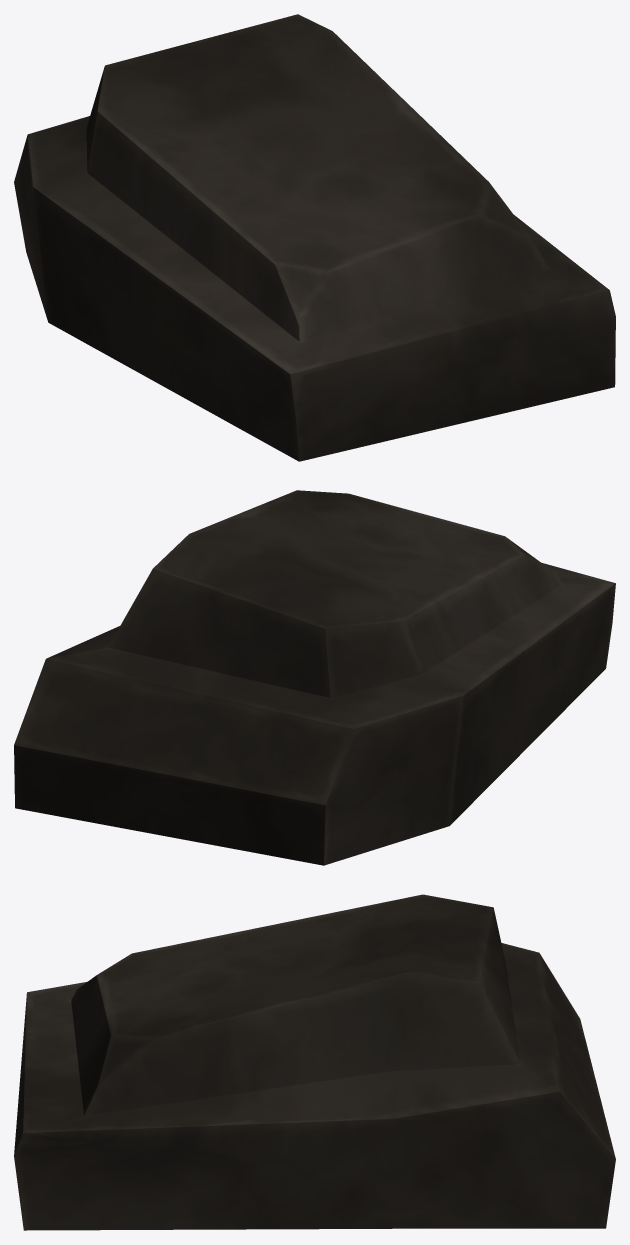
File: Stone3.FBX
3 renders of one model, top to bottom at view 1: azimuth 30°, elevation 25°; view 2: azimuth 150°, elevation 25°; view 3: azimuth 270°, elevation 25°, orthographic. The views are drawn at different scales.
Parts seen in each view (by area): view 1: Stone3; view 2: Stone3; view 3: Stone3.
Boxes of the visible parts, x1,y1,x2,y2 form: Stone3: (14, 14, 615, 461); Stone3: (14, 490, 615, 865); Stone3: (14, 894, 615, 1230).
Size of the model in its own units: 5.12 by 3.01 by 7.46.
